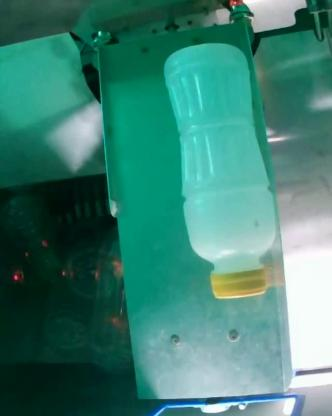Plastic Bottle: (164, 43, 277, 300)
